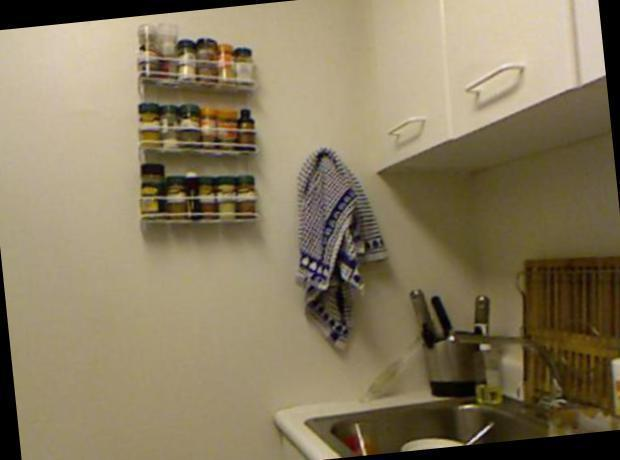Lavaplatos: (290, 309, 590, 460)
